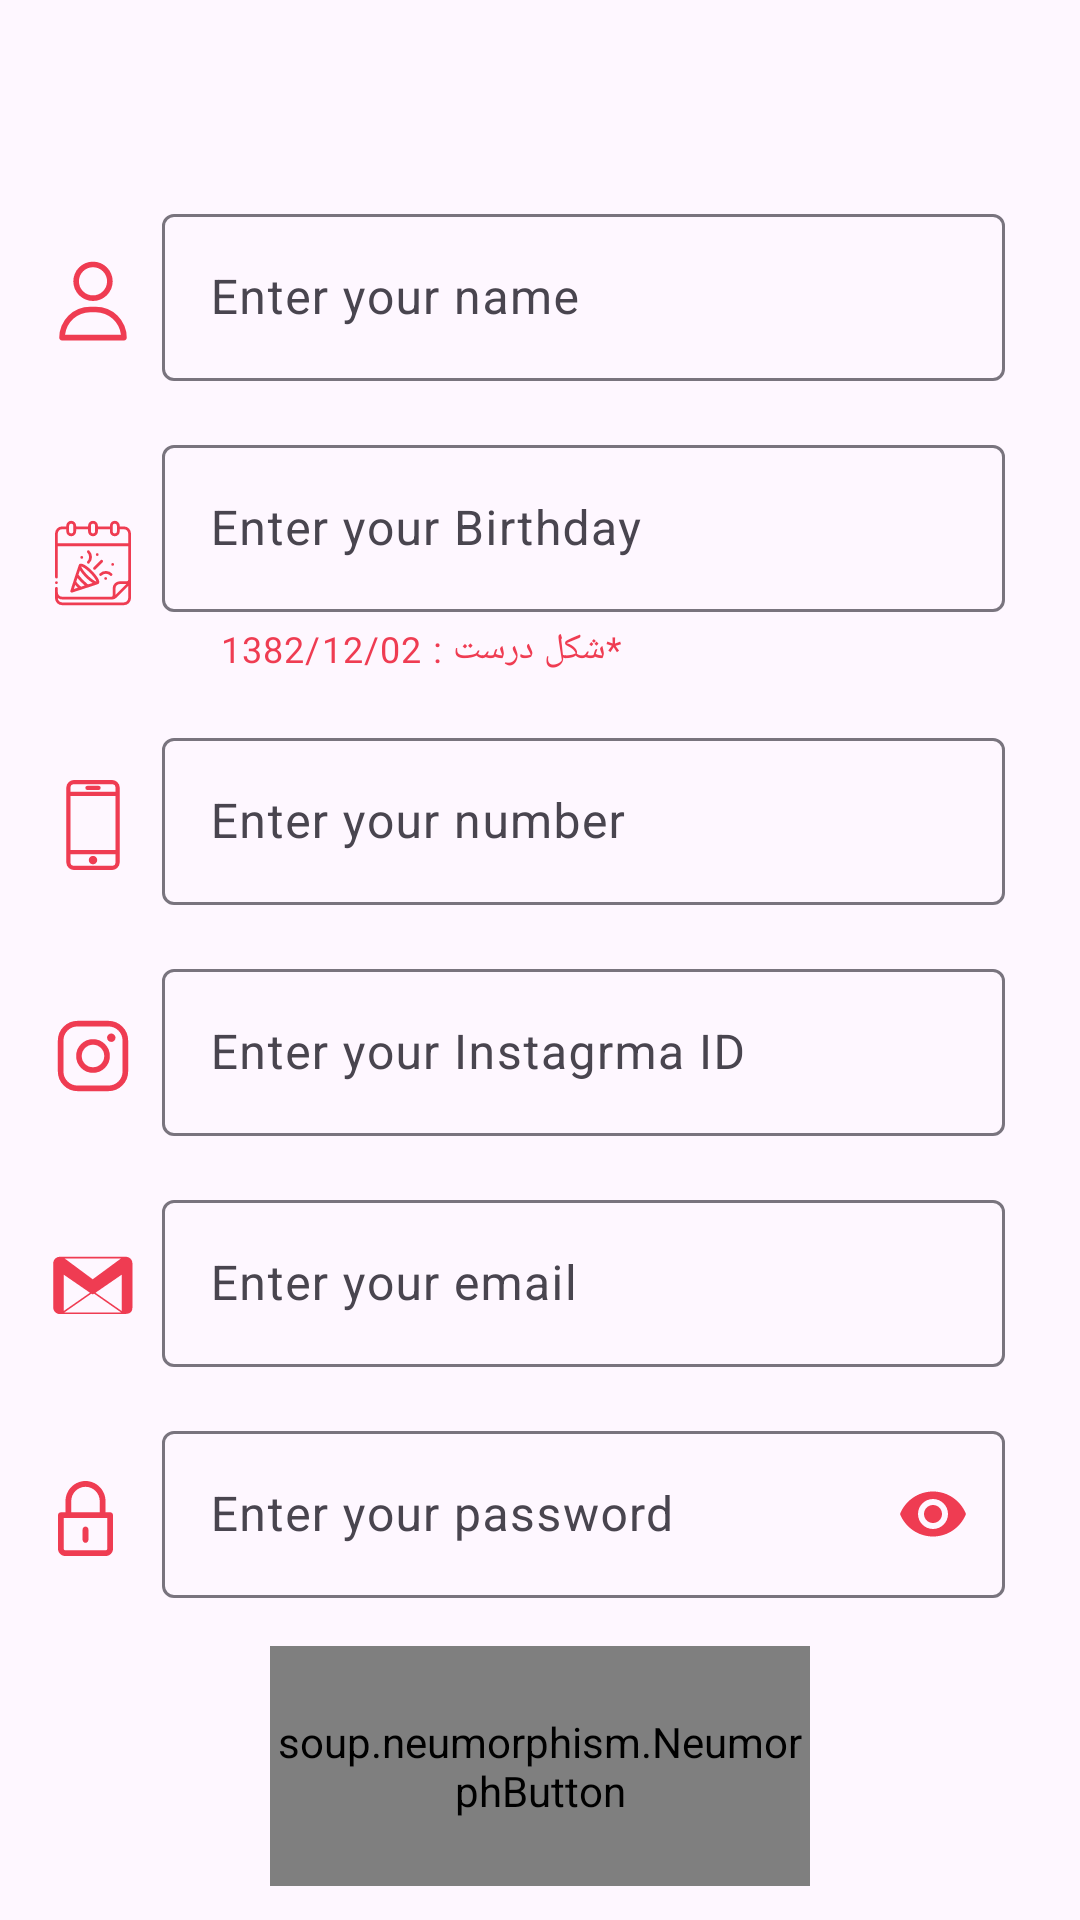

Point at icon controls on the screen. Image size 1080 × 1920, points as (x,y).
mobile: (93,825)
profile tookhali: (93,301)
